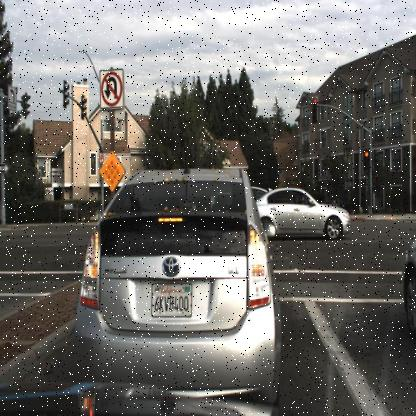car: (55, 154, 281, 408), (252, 186, 352, 243), (399, 224, 415, 342), (316, 194, 351, 219), (246, 179, 268, 205)
trafficLight-Red: (360, 144, 372, 174), (310, 92, 320, 125)
